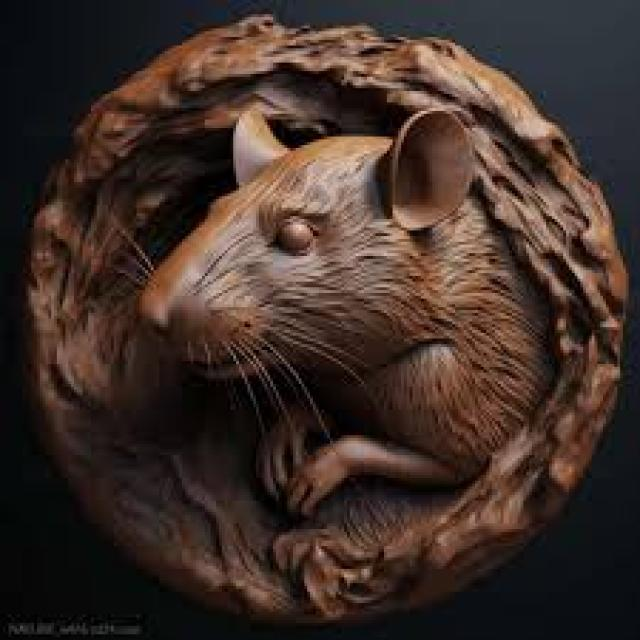rat: (17, 11, 629, 626), (131, 102, 557, 520)
